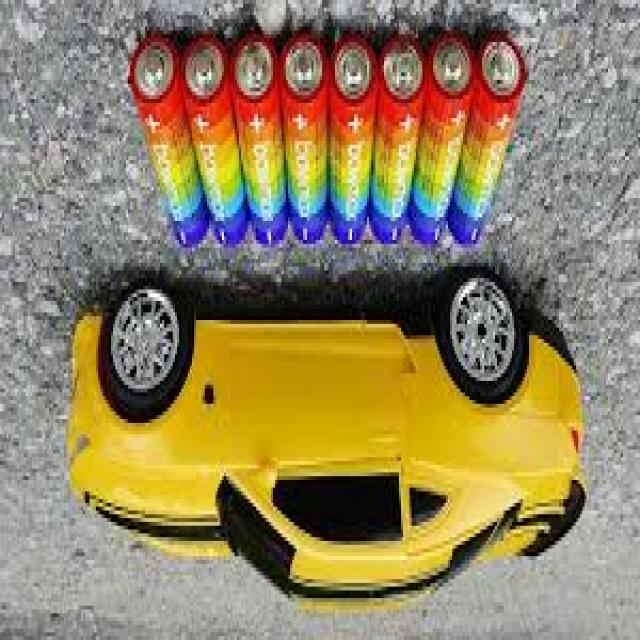Car: (66, 271, 589, 617)
